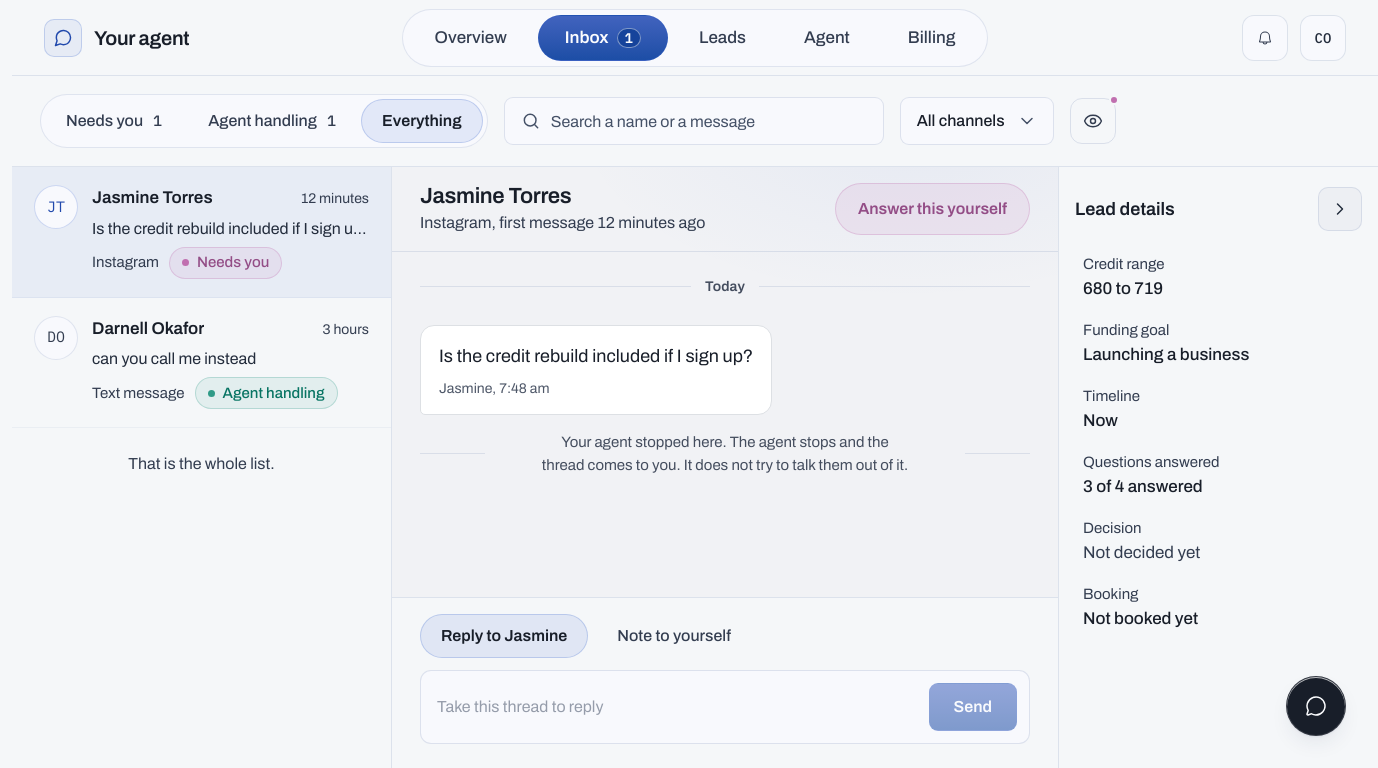
Test: CoachInbox › filters the list from the search box
In the search field labelled "Search a name or a message": (709, 121) [551,98,867,144], type "darnell"
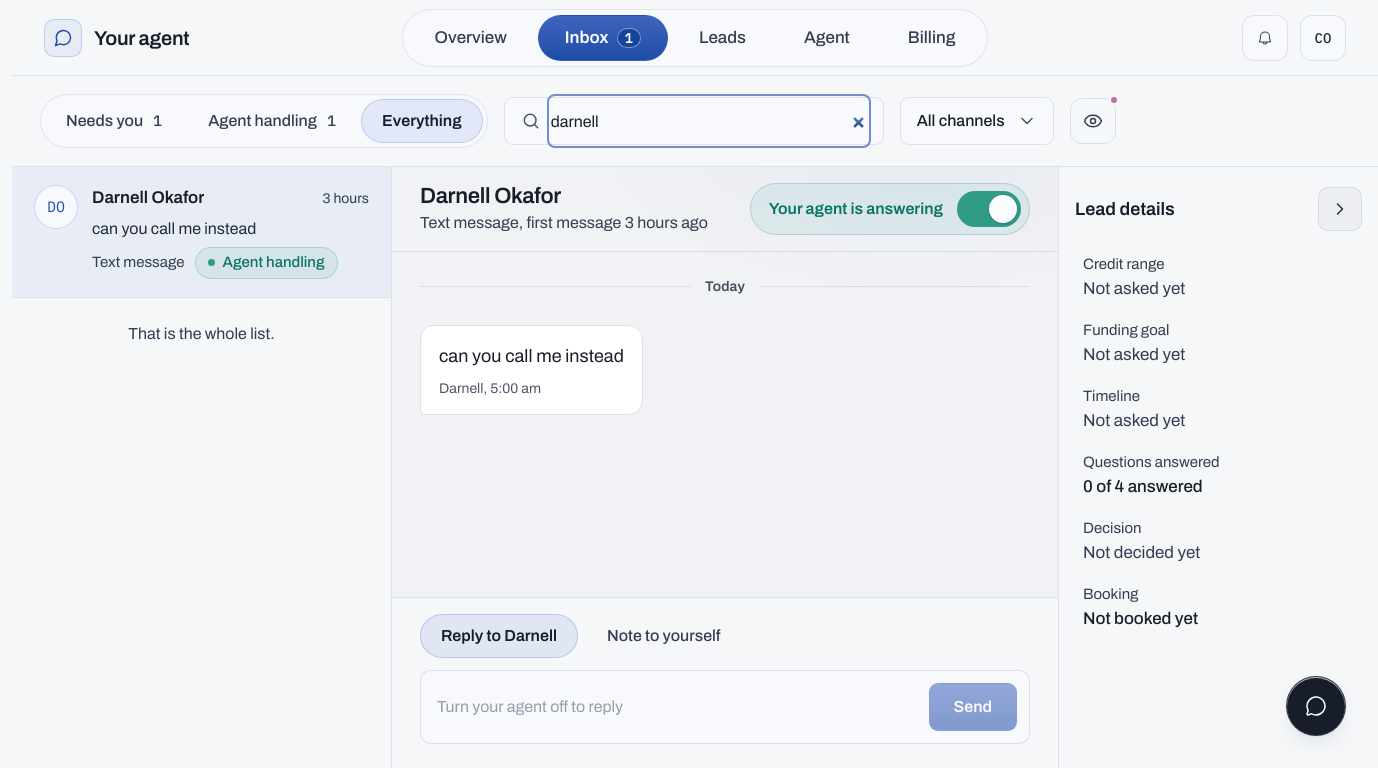
Check: the text "Darnell Okafor" is shown, box [92,185,204,210]
Check: the button "Jasmine Torres" is gone
